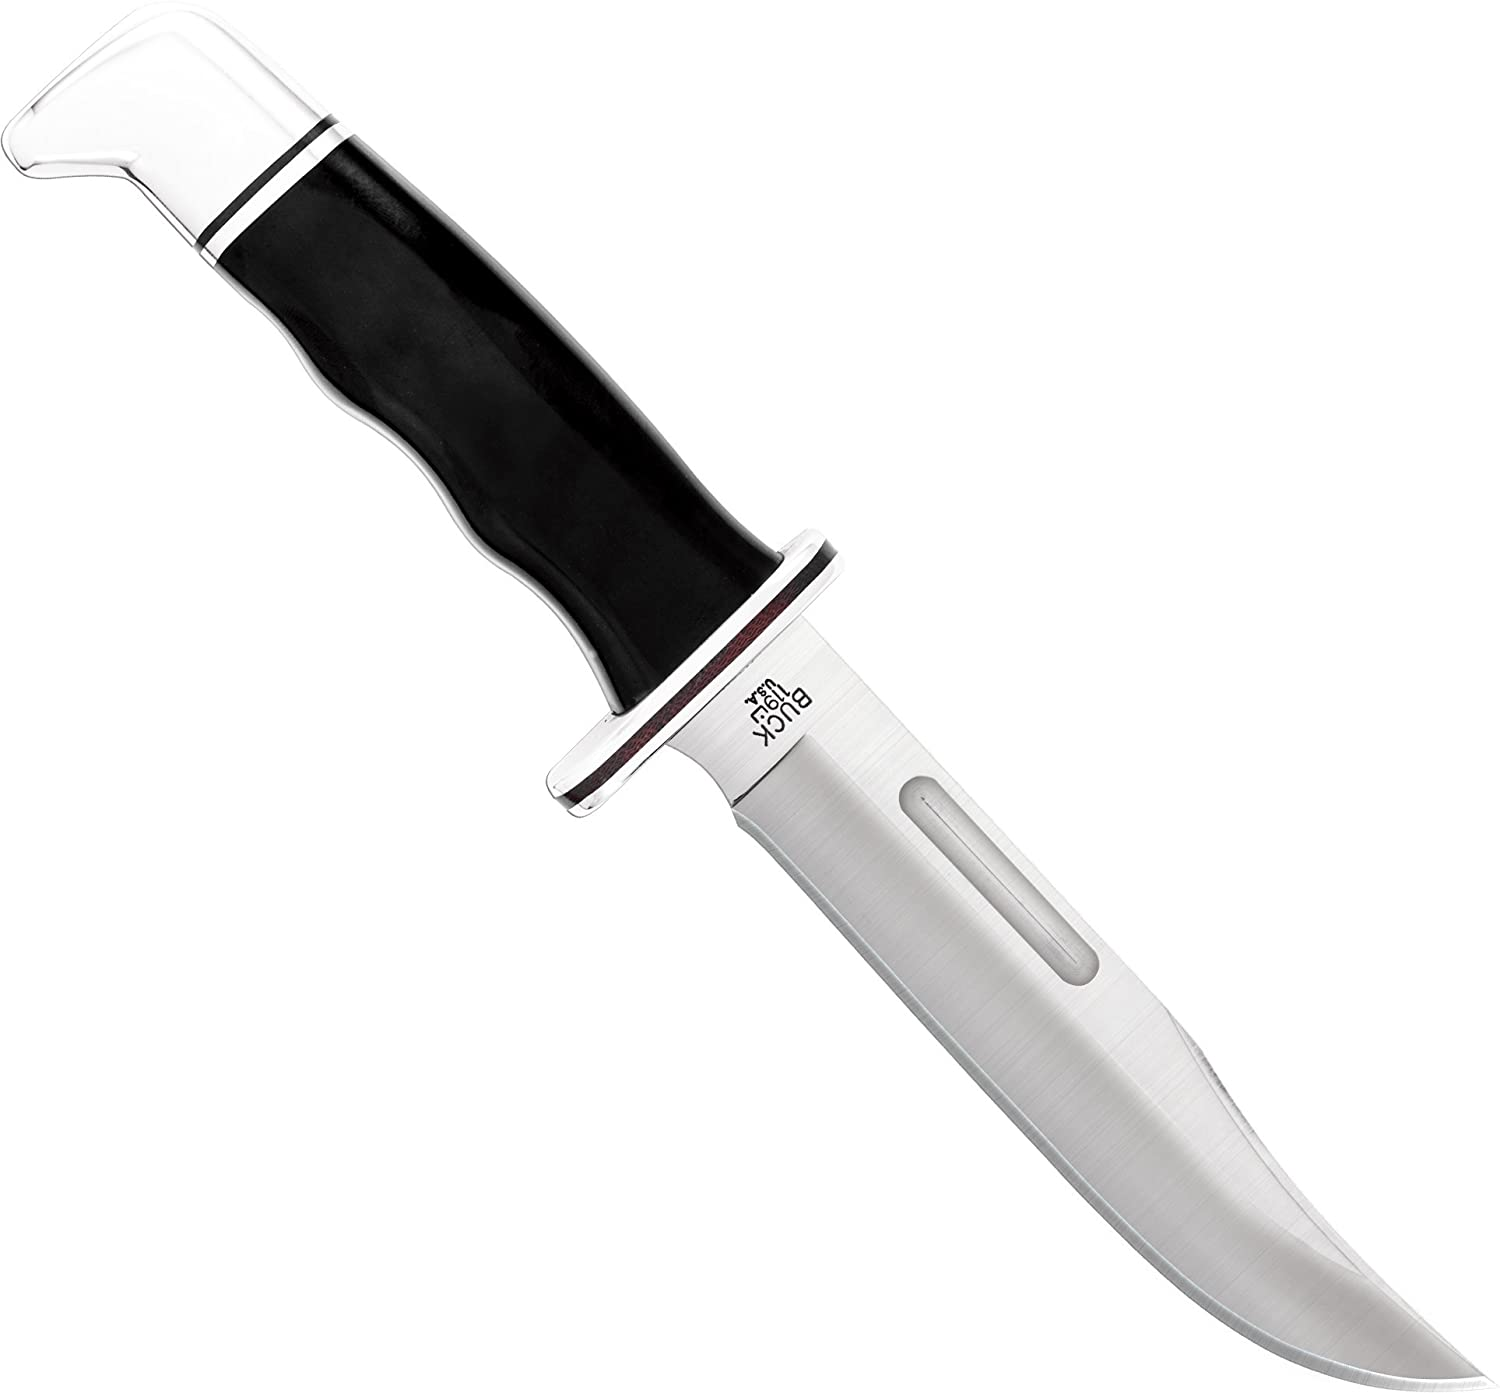knife: (59, 24, 1442, 1334)
